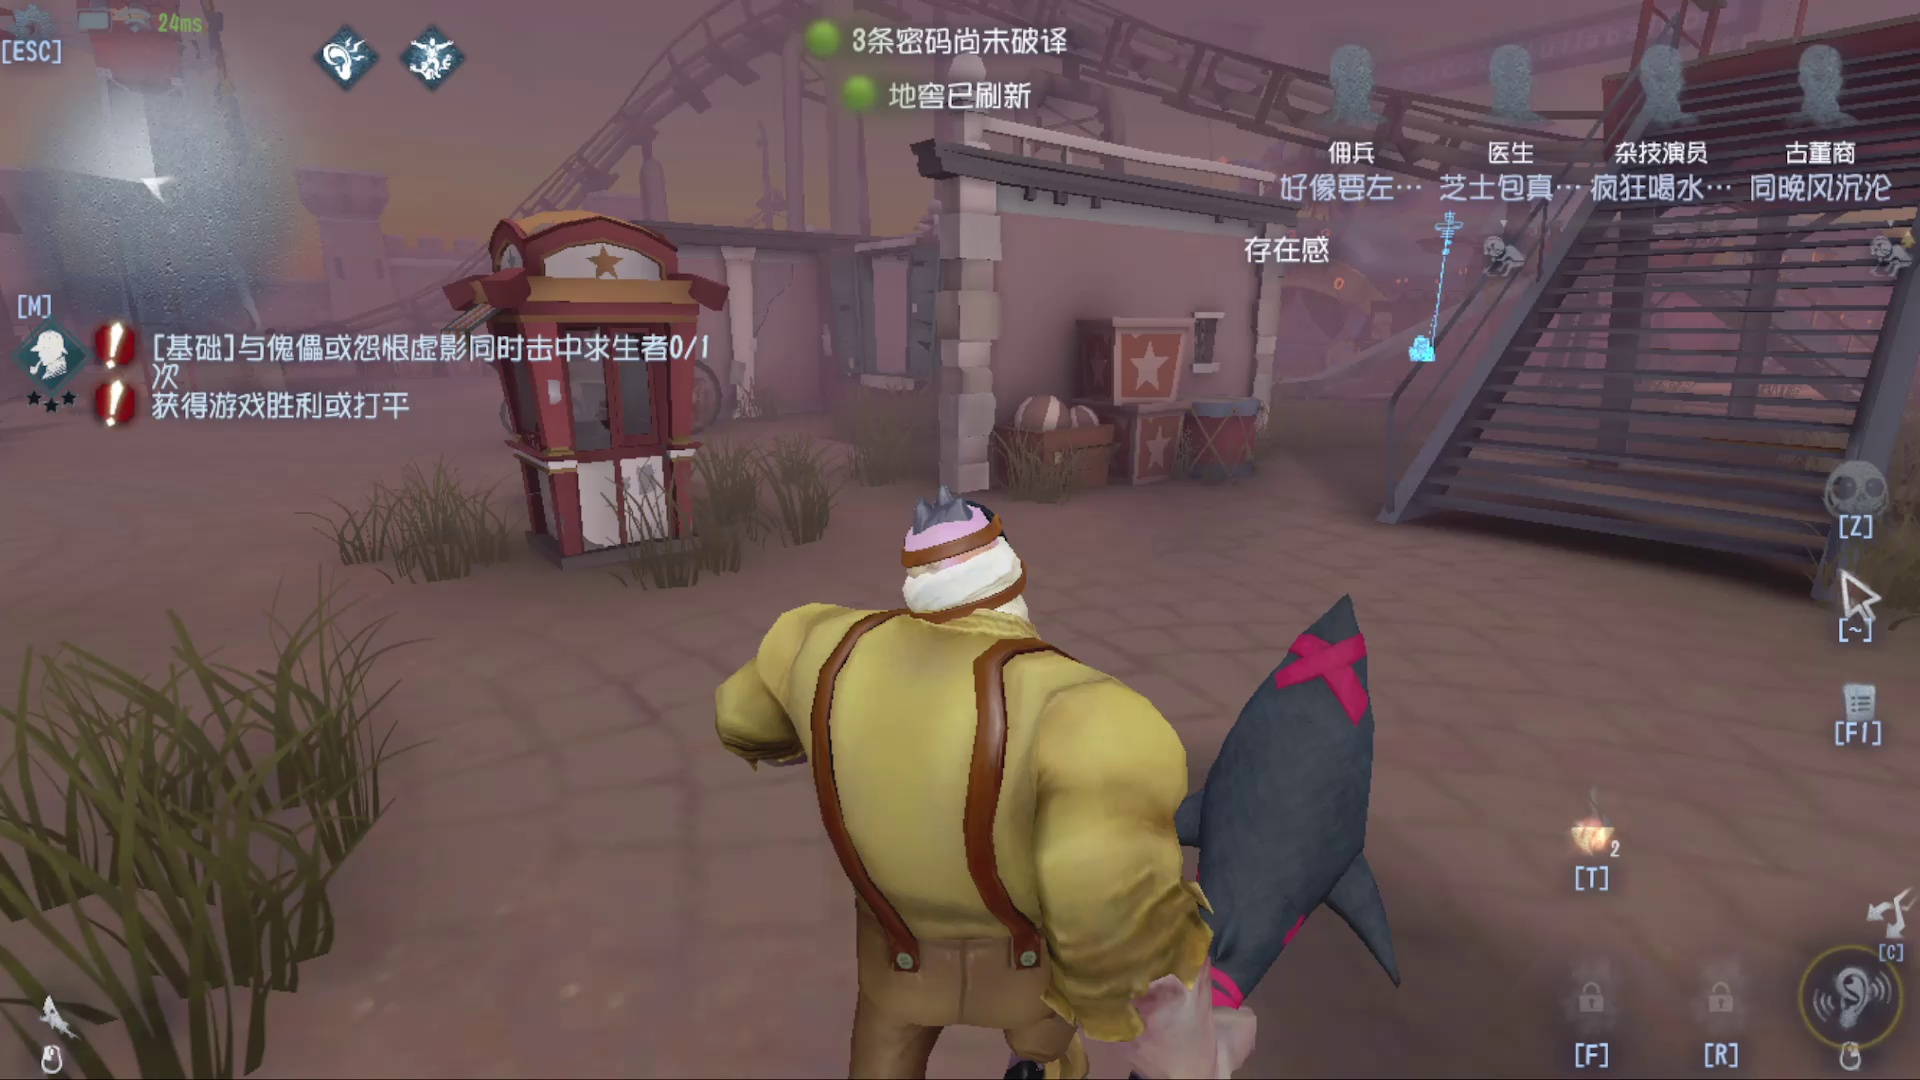密码机: (1406, 210, 1472, 382)
